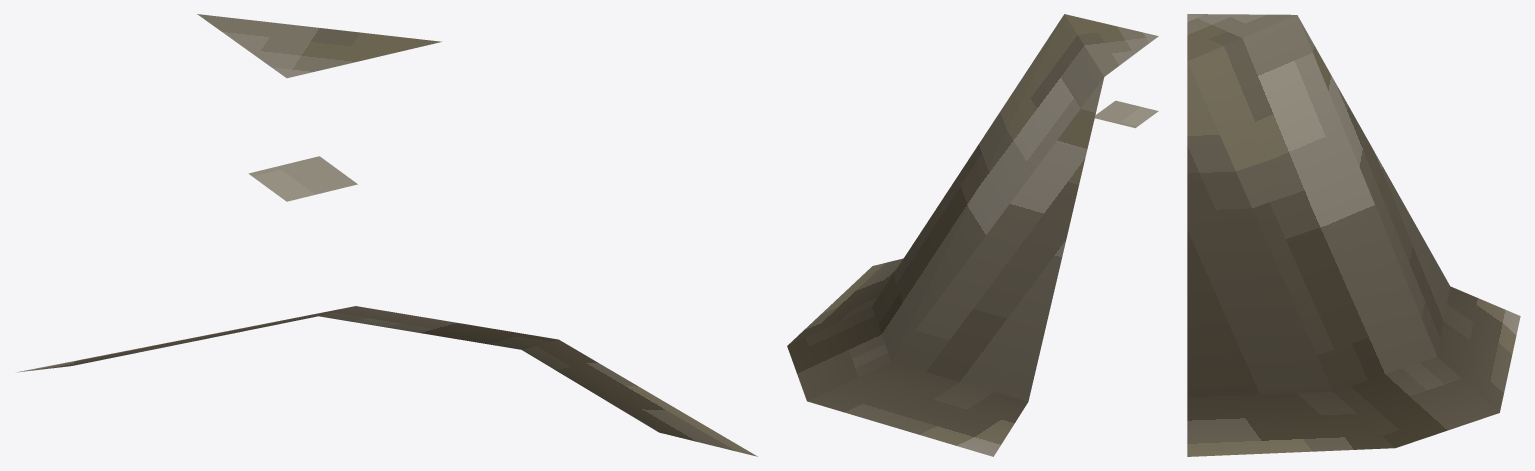
3 renders of one model, left to right at view 1: azimuth 30°, elevation 25°; view 2: azimuth 150°, elevation 25°; view 3: azimuth 270°, elevation 25°, orthographic. The views are drawn at different scales.
Bounding box in the file's own units: 1 × 1 × 1.
Materials: 2 (2 with a texture image).
